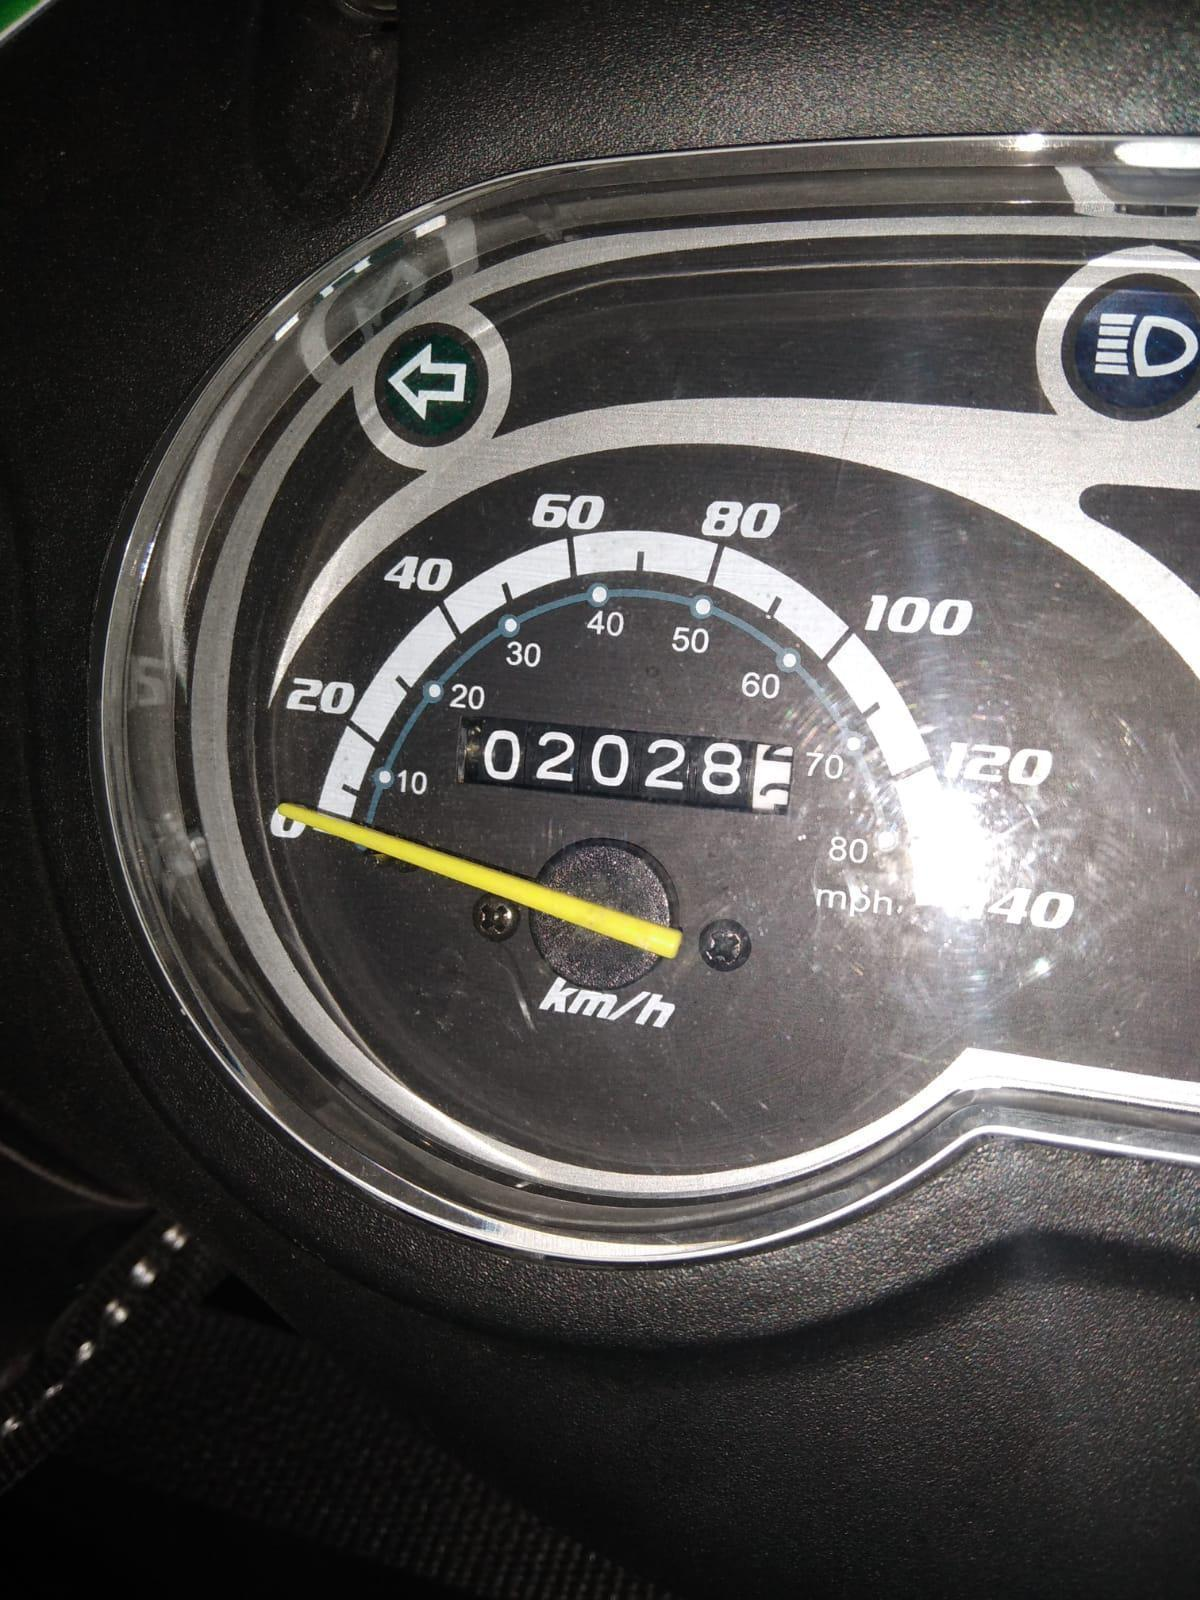0: (590, 729, 632, 789), (482, 723, 522, 784)
2: (644, 733, 688, 794), (533, 726, 576, 787)
3: (758, 777, 795, 818)
8: (701, 737, 747, 803)
odometer: (463, 711, 803, 821)
